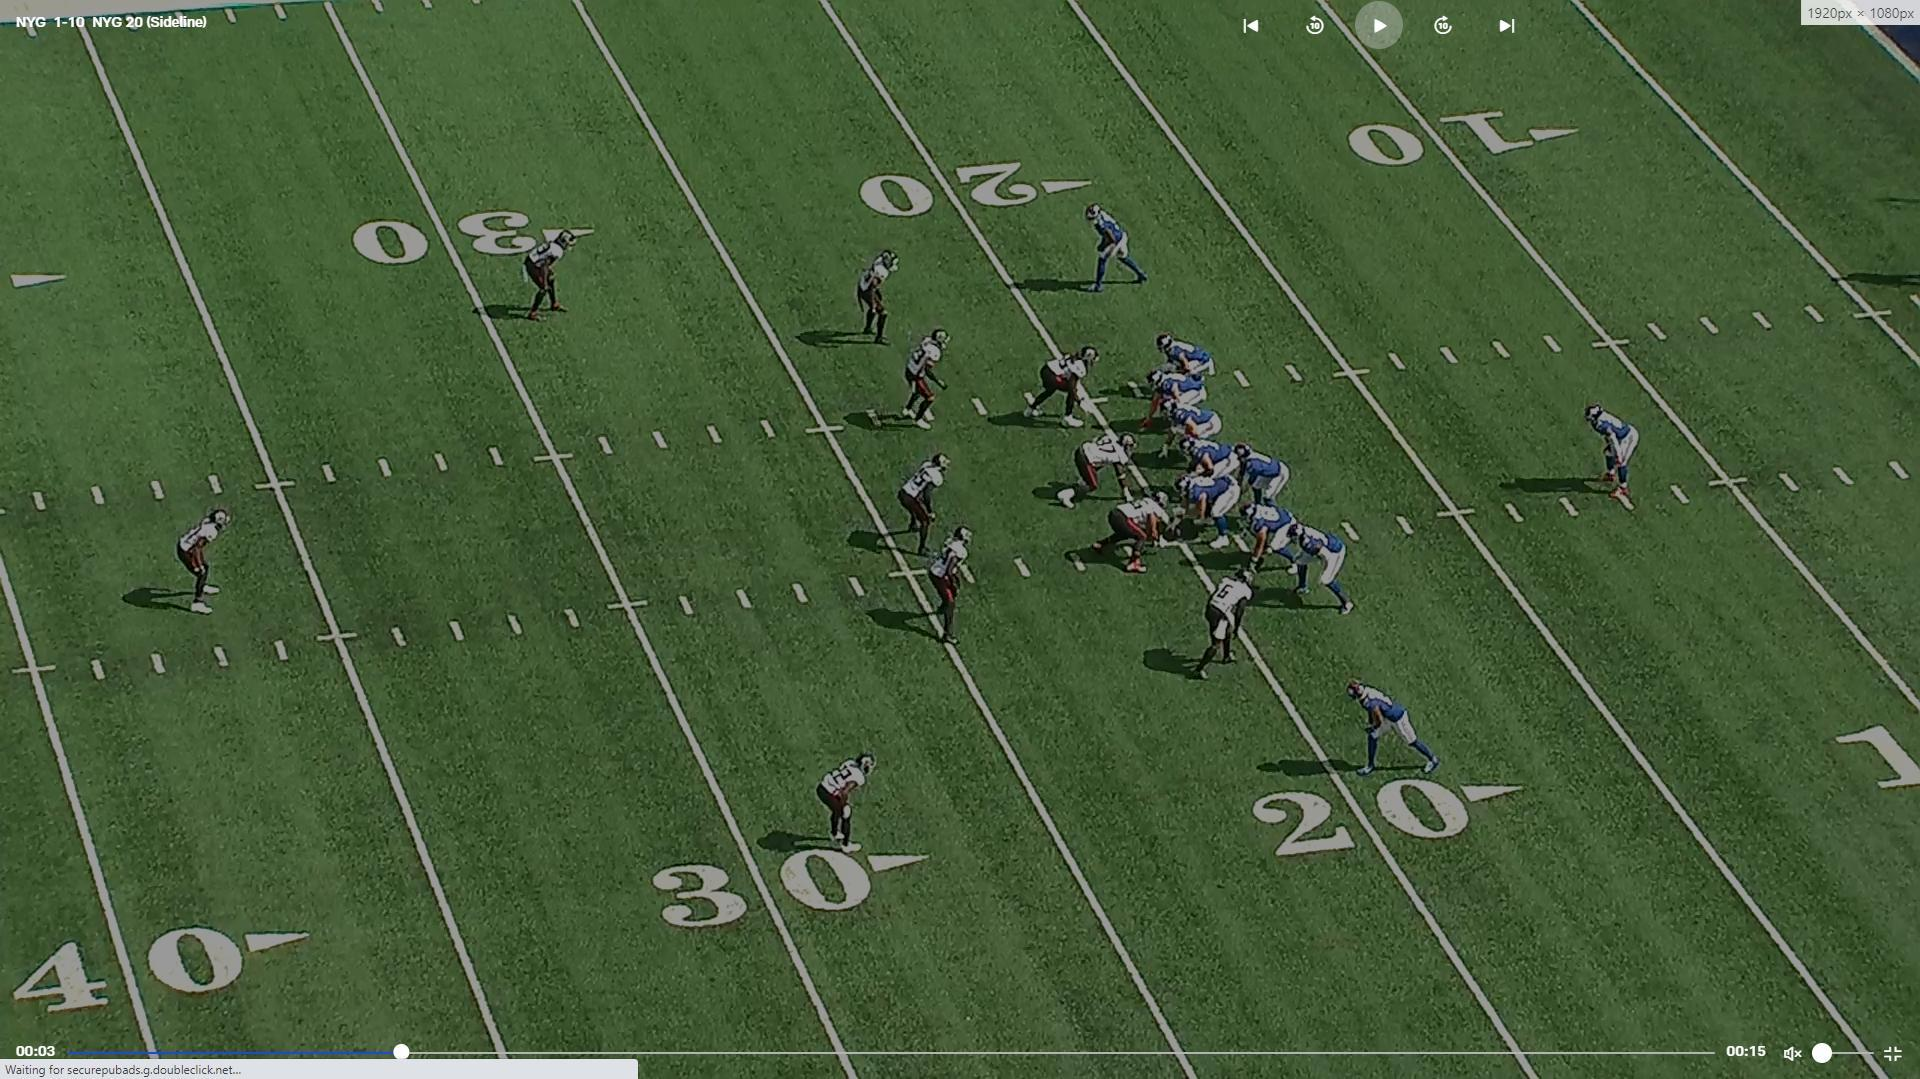defense: (1194, 563, 1259, 683), (1084, 495, 1174, 581), (1026, 341, 1103, 429), (1055, 433, 1138, 513), (177, 505, 235, 617), (819, 749, 880, 855), (929, 525, 976, 654), (903, 448, 954, 556), (905, 325, 952, 429), (523, 225, 573, 319), (853, 248, 898, 347)
oline: (1280, 521, 1356, 619), (1174, 470, 1241, 549), (1243, 502, 1303, 578), (1164, 400, 1226, 456), (1180, 439, 1245, 484)
qb: (1236, 443, 1295, 511)
skill: (1341, 678, 1444, 779), (1079, 200, 1149, 294), (1582, 404, 1641, 508), (1144, 364, 1212, 435), (1154, 334, 1217, 377)
